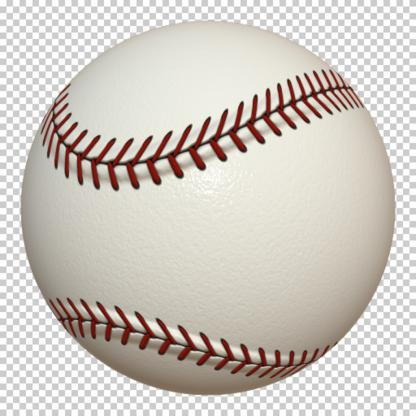Ball: (30, 19, 392, 396)
